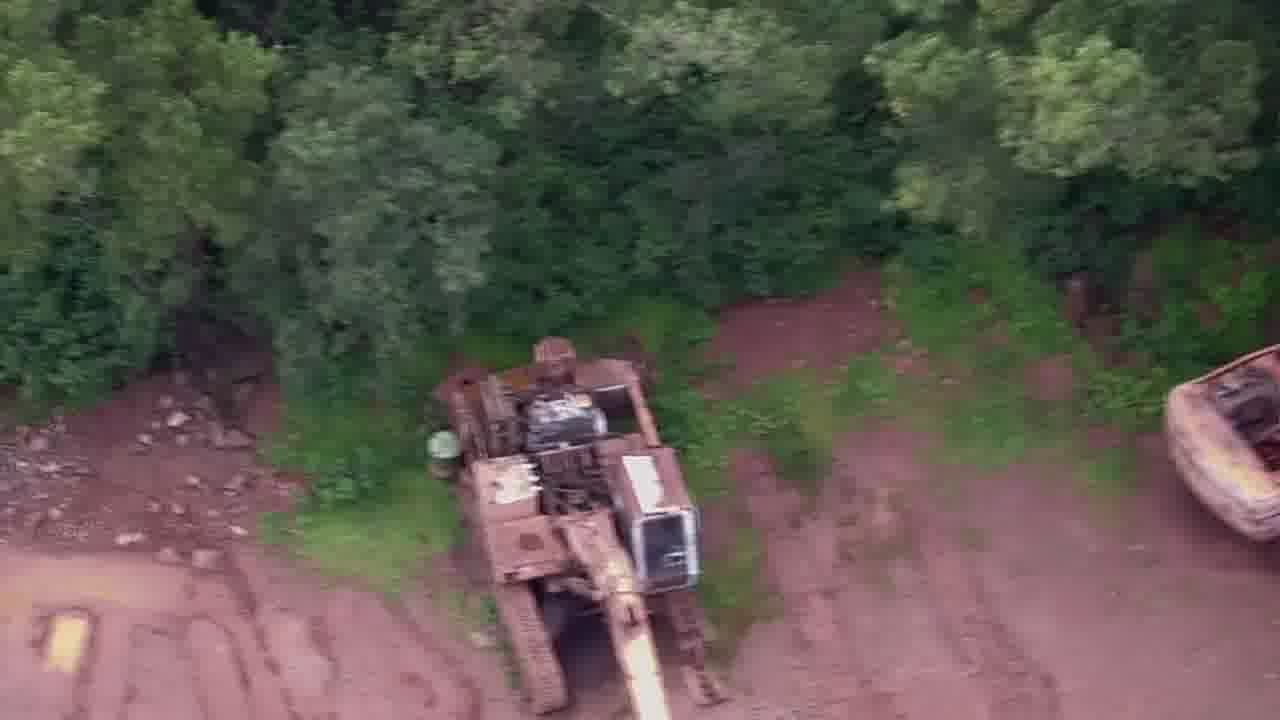HMV: (426, 339, 707, 719)
